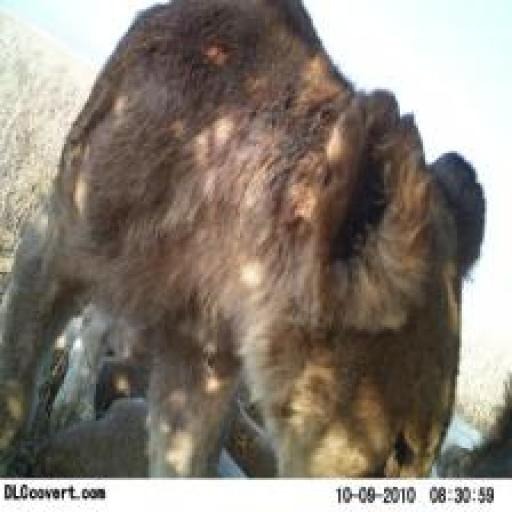lion: (2, 9, 487, 477)
